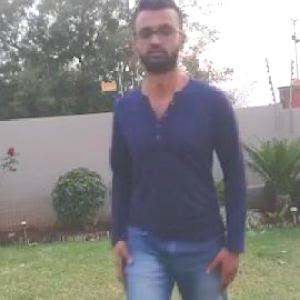follow: (106, 5, 224, 299)
